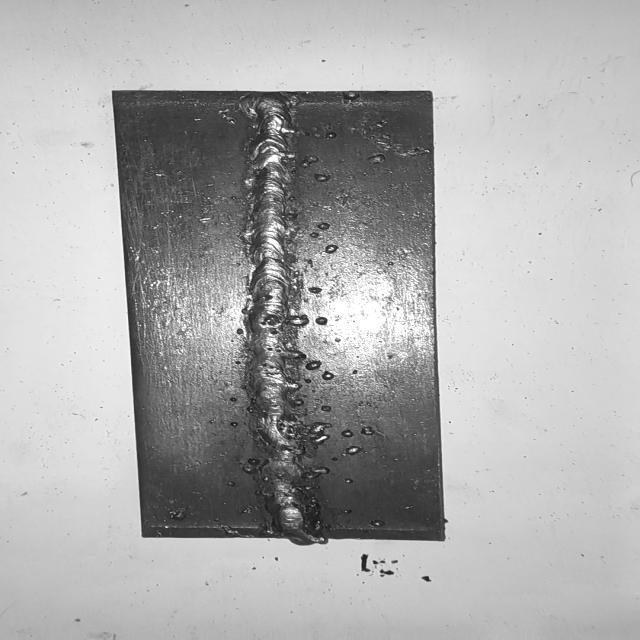Bad Weld: (242, 91, 316, 533)
Defect: (232, 408, 332, 531)
